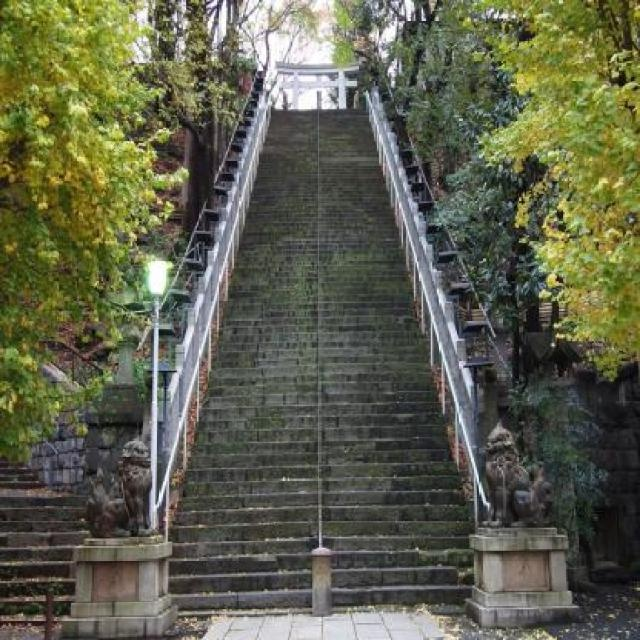stair: (166, 105, 483, 619), (0, 449, 93, 623)
